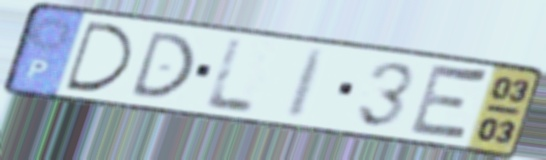3: (356, 61, 418, 129)
D: (61, 18, 136, 95), (126, 29, 198, 100)
E: (404, 59, 494, 146)
I: (282, 47, 332, 123)
L: (200, 36, 258, 116)
